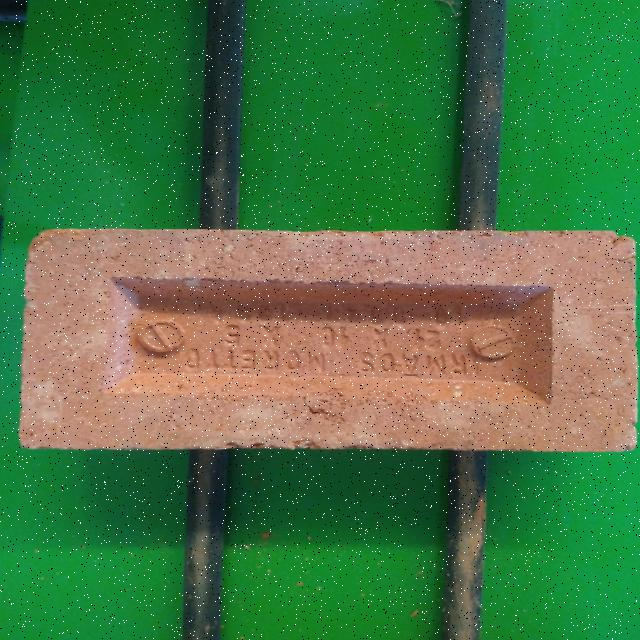bricks: (18, 232, 638, 454)
